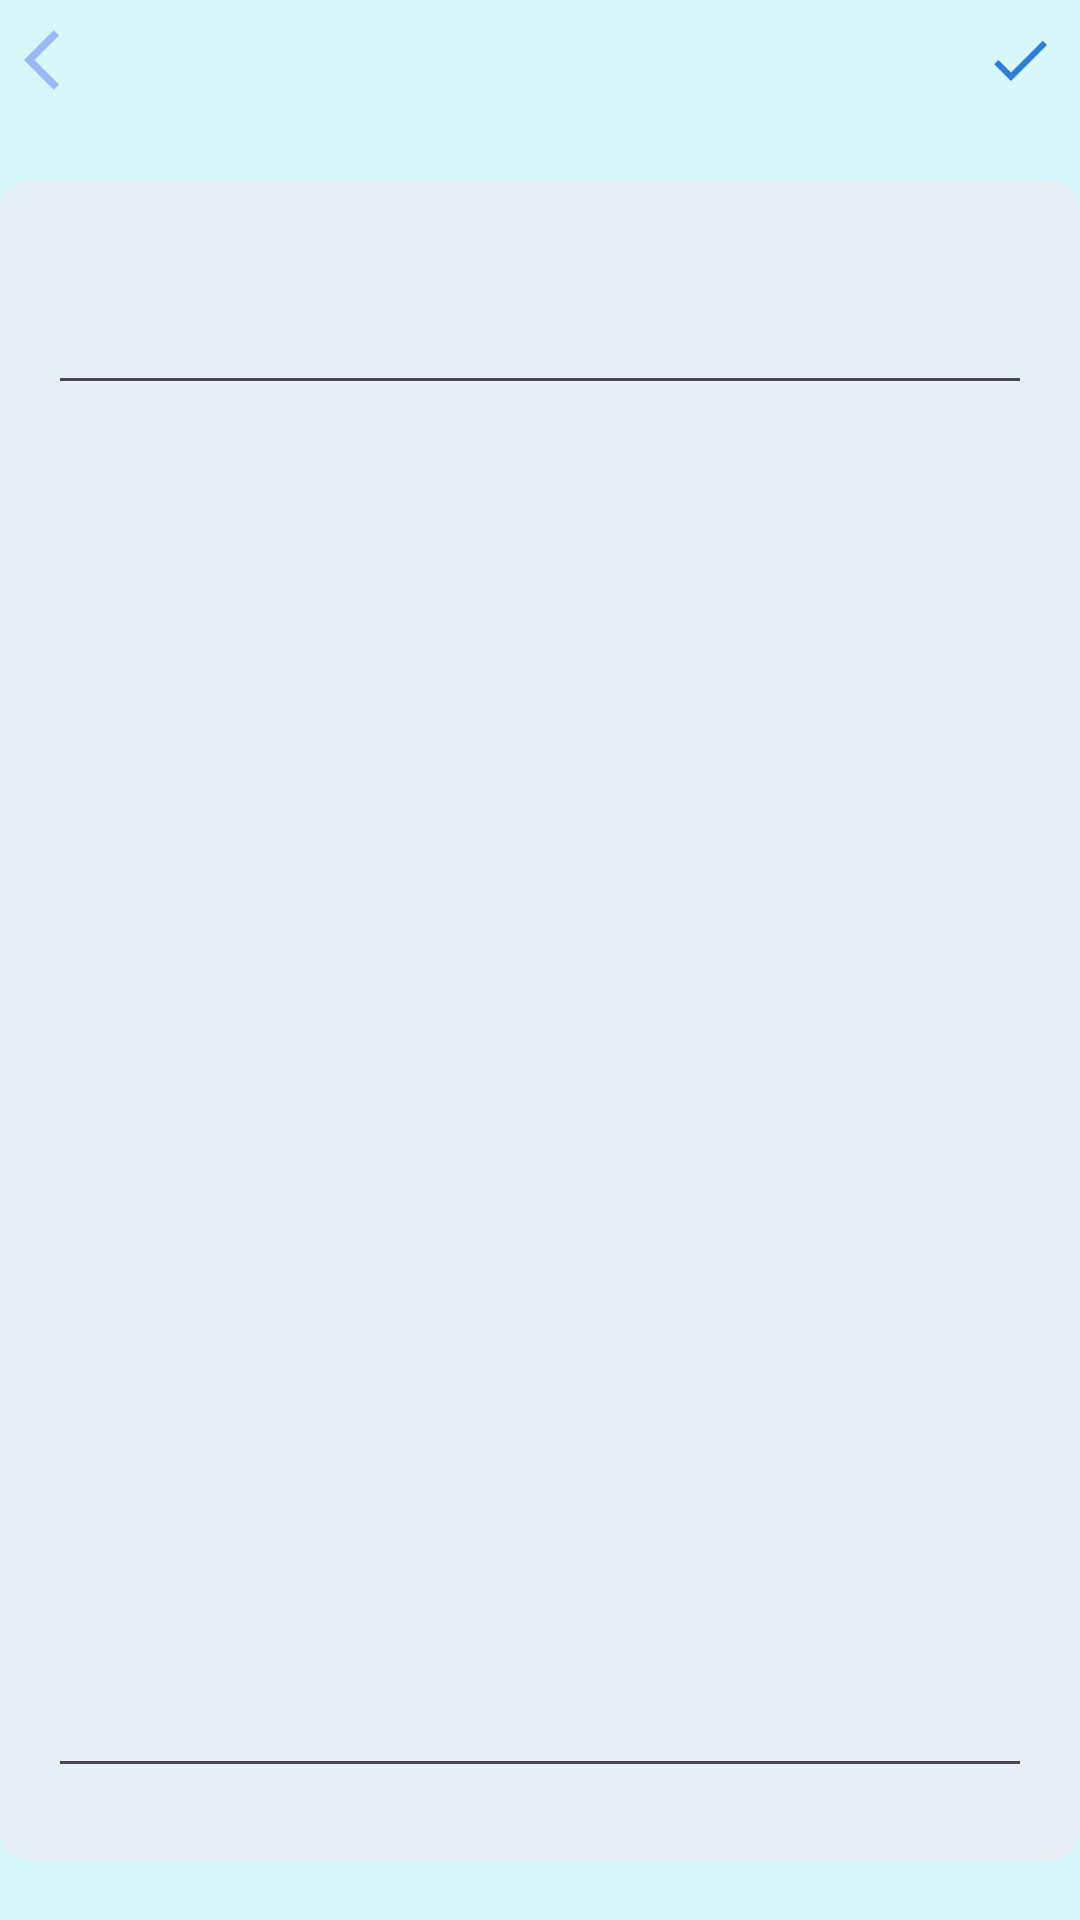

Named icons in this screenshot (1080 x 1920) and their bounding boxes, (x1, y1, x2, y2):
back: (24, 30, 59, 90)
done: (994, 41, 1047, 81)
